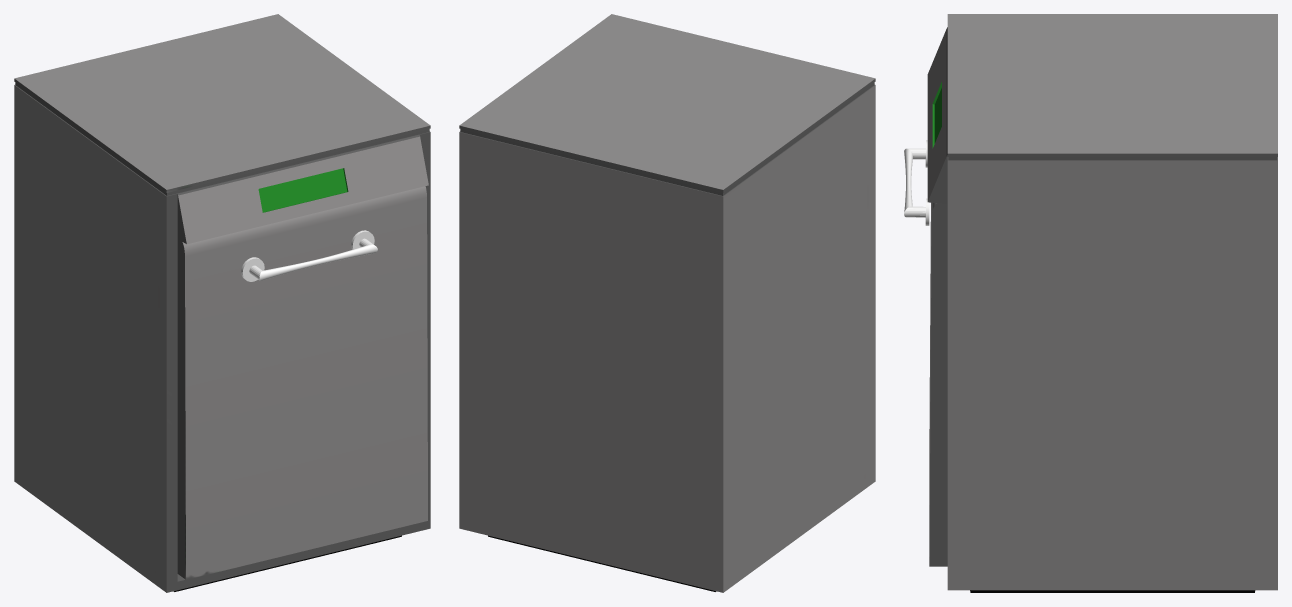
Rendered from Dishwasher_closed.FBX.
3 views of the same model, side by side, from view 1: azimuth 30°, elevation 25°; view 2: azimuth 150°, elevation 25°; view 3: azimuth 270°, elevation 25° (orthographic). The views are drawn at different scales.
Visible parts, largest first — view 1: Dishwasher, Door; view 2: Dishwasher; view 3: Dishwasher, Door.
Boxes of the visible parts, x1,y1,x2,y2 form: Dishwasher: (14,14,430,592); Door: (177,186,427,579); Dishwasher: (459,14,875,592); Dishwasher: (927,14,1277,592); Door: (904,140,947,566).
Size of the model in its own units: 24 by 36 by 27.15.
